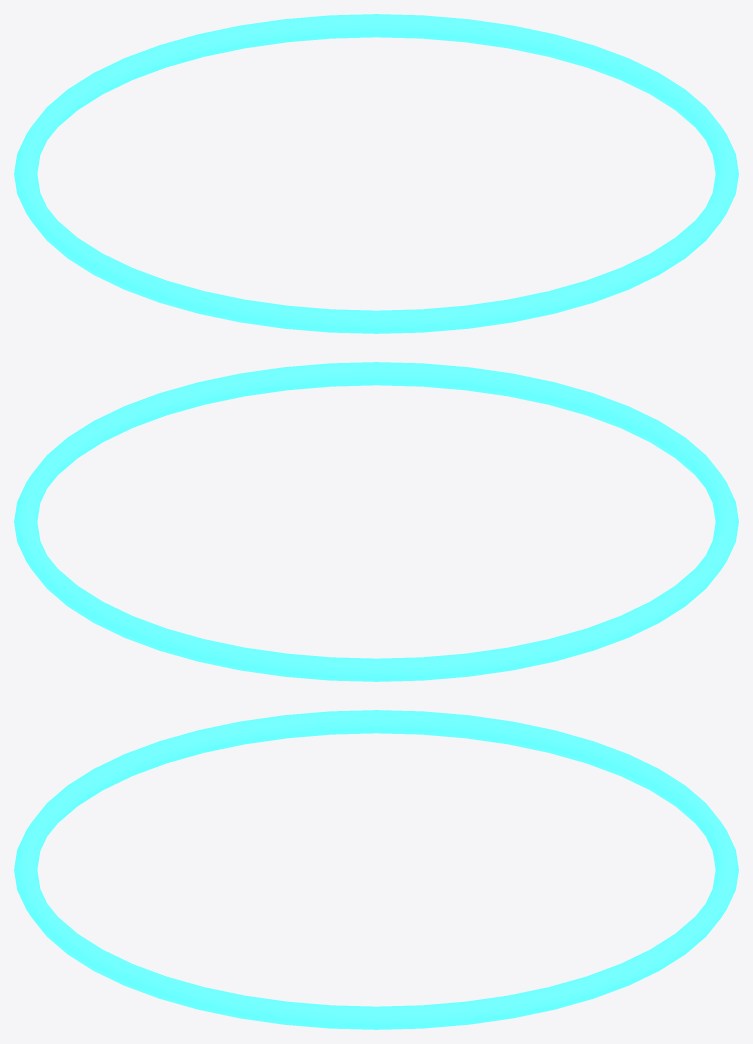
Rendered from lift_ring.glb.
The picture shows the model from 3 angles, top to bottom: view 1: azimuth 30°, elevation 25°; view 2: azimuth 150°, elevation 25°; view 3: azimuth 270°, elevation 25°; orthographic projection.
Bounding box in the file's own units: 0.496 × 0.0139 × 0.496.
